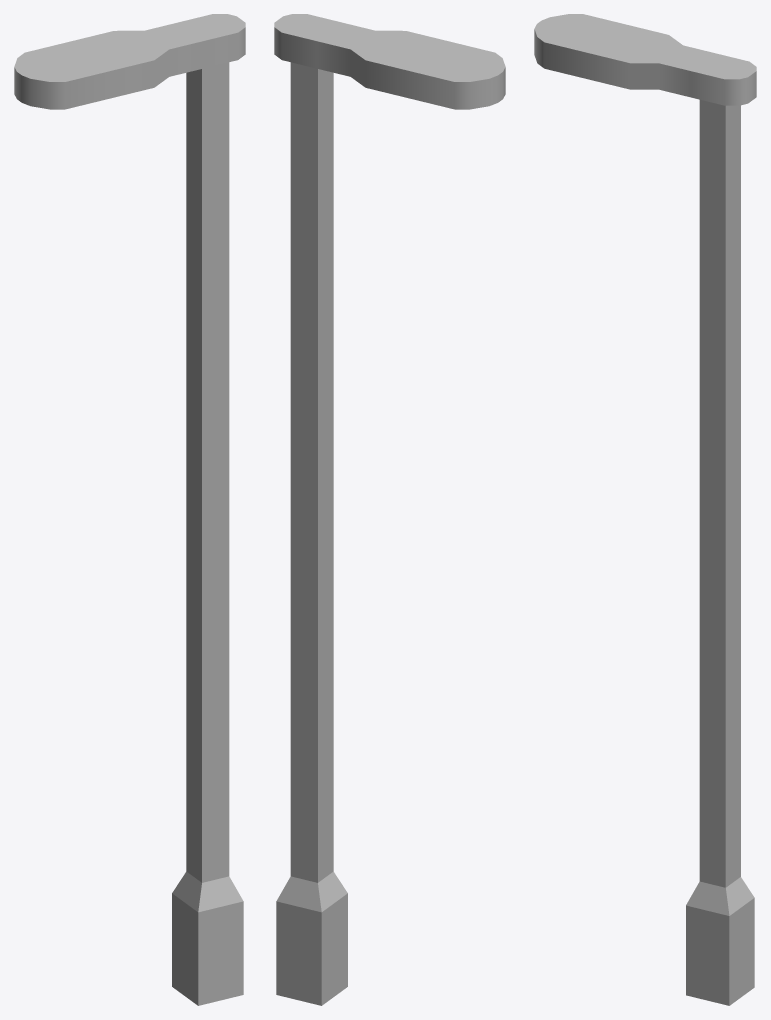
Rendered from lightpole_01.fbx.
3 views of the same model, side by side, from view 1: azimuth 30°, elevation 25°; view 2: azimuth 150°, elevation 25°; view 3: azimuth 330°, elevation 25° (orthographic). The views are drawn at different scales.
Parts seen in each view (by area): view 1: lightpole_01; view 2: lightpole_01; view 3: lightpole_01.
Boxes of the visible parts, x1,y1,x2,y2 form: lightpole_01: [14, 14, 245, 1005]; lightpole_01: [274, 14, 505, 1005]; lightpole_01: [534, 14, 756, 1005].
Size of the model in its own units: 1.98 by 8.23 by 0.6245.
